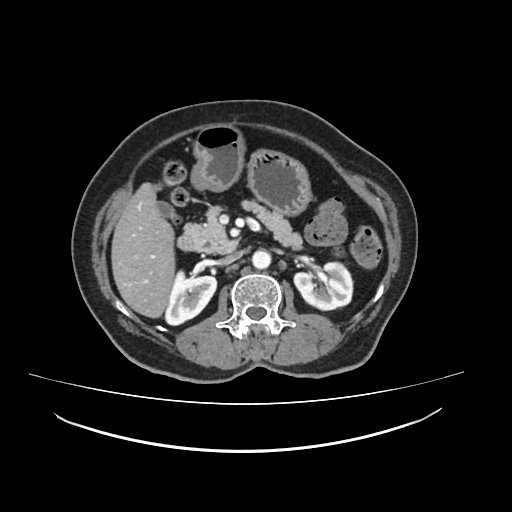aorta: (249, 248, 272, 270)
